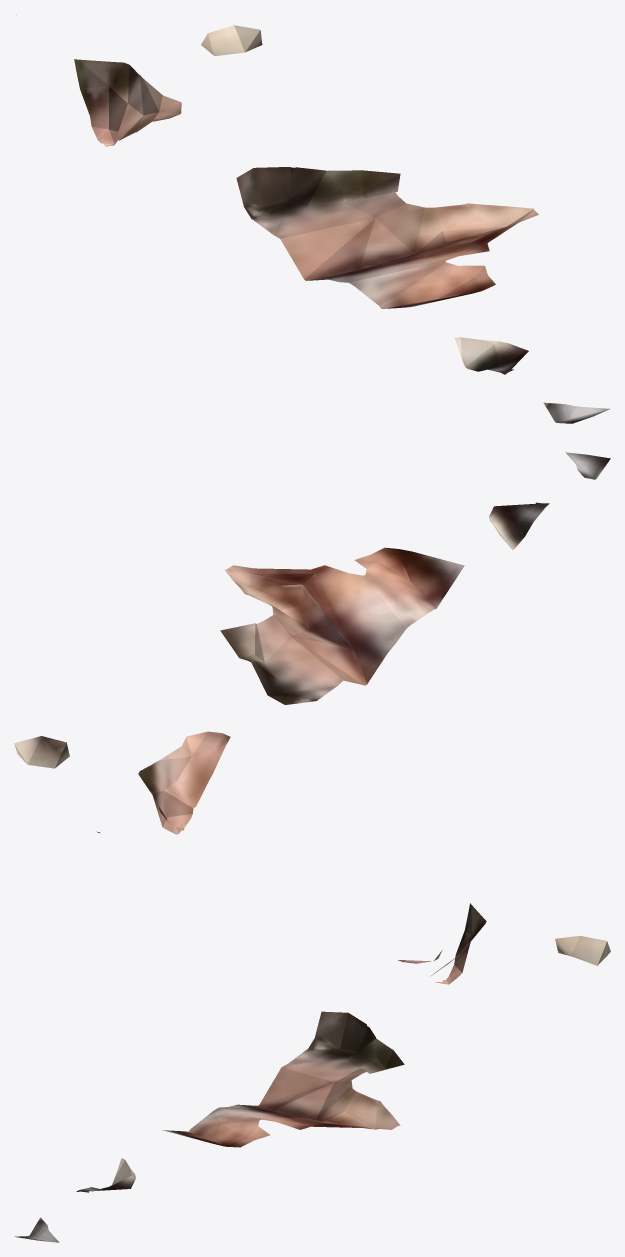
3 renders of one model, top to bottom at view 1: azimuth 30°, elevation 25°; view 2: azimuth 150°, elevation 25°; view 3: azimuth 330°, elevation 25°, orthographic. The views are drawn at different scales.
Size of the model in its own units: 0.2743 by 0.0886 by 1.38.
1 material, 1 textured.
